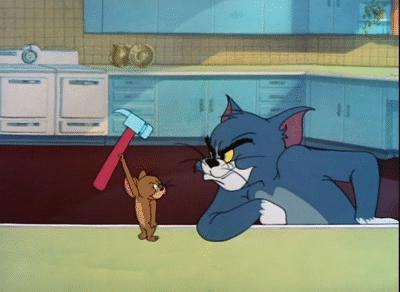jerry: (118, 154, 177, 244)
